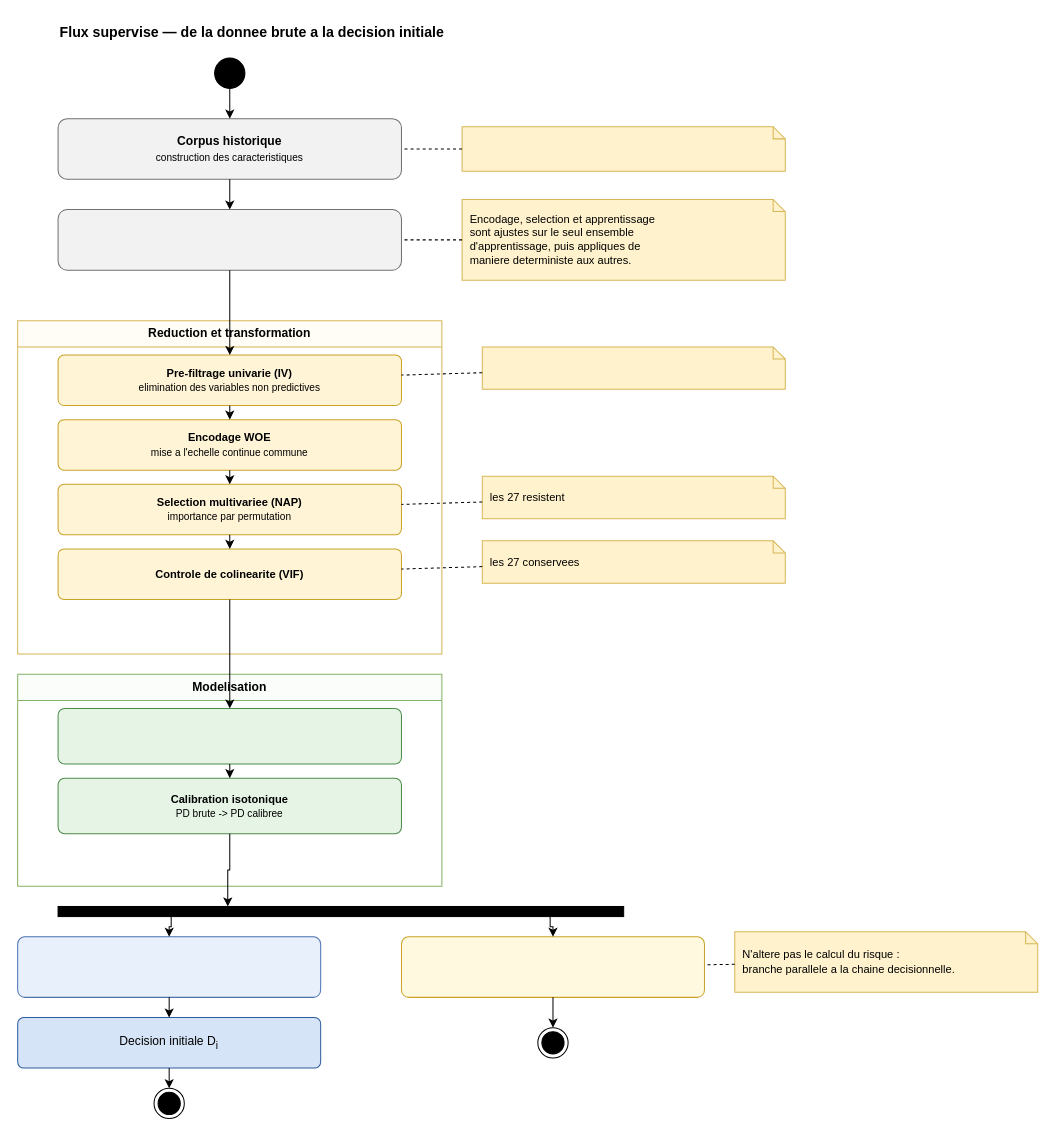
The diagram is 1055 pixels wide and 1136 high, and some of its shapes have lost their labels. Here are the shapes that lost their labels. From the top down, the centre of each, then its label:
(623,148): 63 variables construites
(229,239): Separation temporelle apprentissage / validation / test
(633,367): 27 variables retenues
(229,736): Apprentissage LightGBM produit PD brute
(169,966): Conversion en score PDO puis application des seuils metier
(552,966): Explication SHAP sortie complementaire
